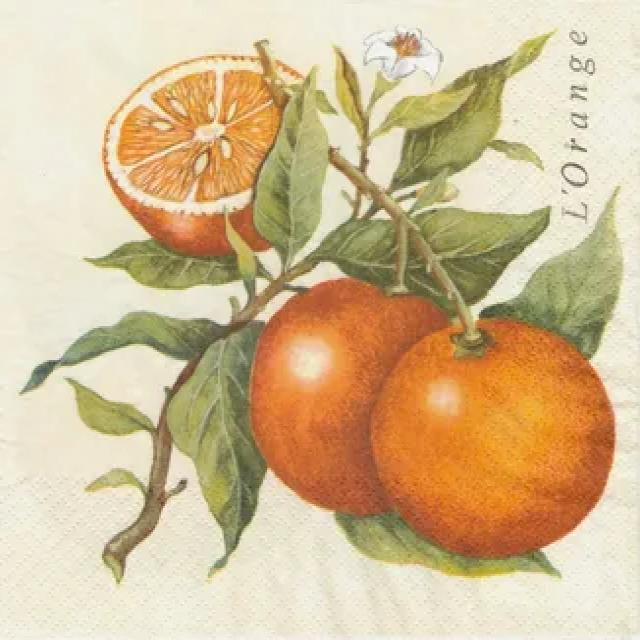orange: (370, 298, 636, 558)
